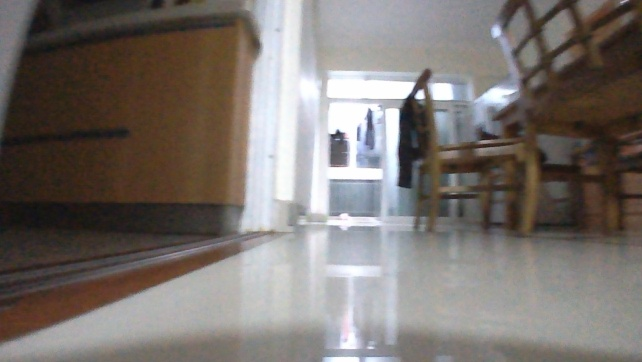cupboard: (0, 0, 257, 236)
dining_table: (400, 0, 641, 237)
